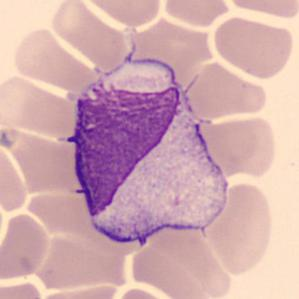Lymphocyte: (60, 70, 226, 251)
RBC: (70, 109, 237, 252), (201, 180, 276, 276), (131, 233, 230, 299), (211, 14, 295, 80), (47, 1, 126, 71), (179, 59, 268, 121), (0, 123, 76, 194), (14, 27, 90, 97), (0, 73, 80, 139), (194, 112, 269, 173), (0, 210, 51, 282), (227, 114, 279, 179), (81, 0, 164, 27), (162, 0, 232, 28), (34, 281, 121, 299), (223, 0, 298, 20), (0, 278, 45, 299), (110, 286, 172, 299)
